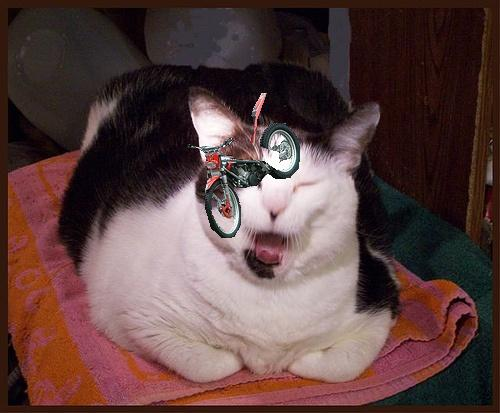tampered: (188, 94, 300, 238)
